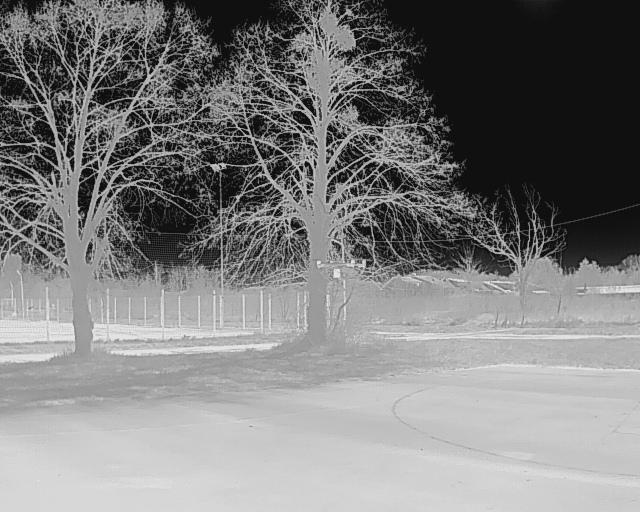drone: (298, 256, 364, 286)
